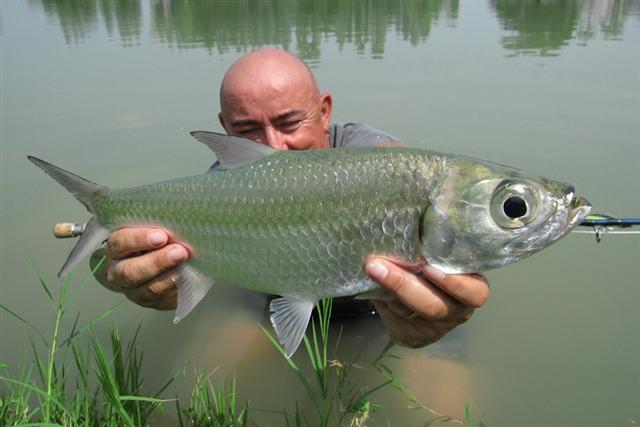Mulut: (551, 178, 611, 235)
Sirip Anal: (159, 248, 221, 334)
Sirip Ekor: (19, 146, 113, 288)
Sirip Perut: (259, 286, 327, 362)
Sirip Punggung: (185, 122, 292, 172)
